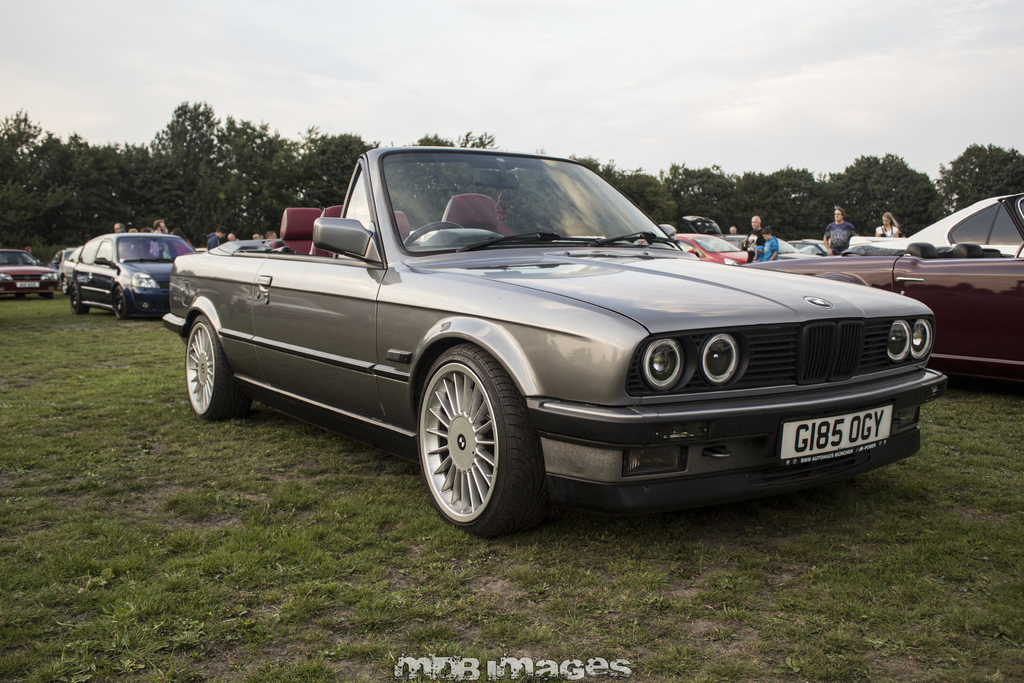Car: (151, 167, 960, 529), (743, 189, 1023, 375), (70, 230, 200, 321), (0, 241, 62, 299), (672, 227, 750, 269)
